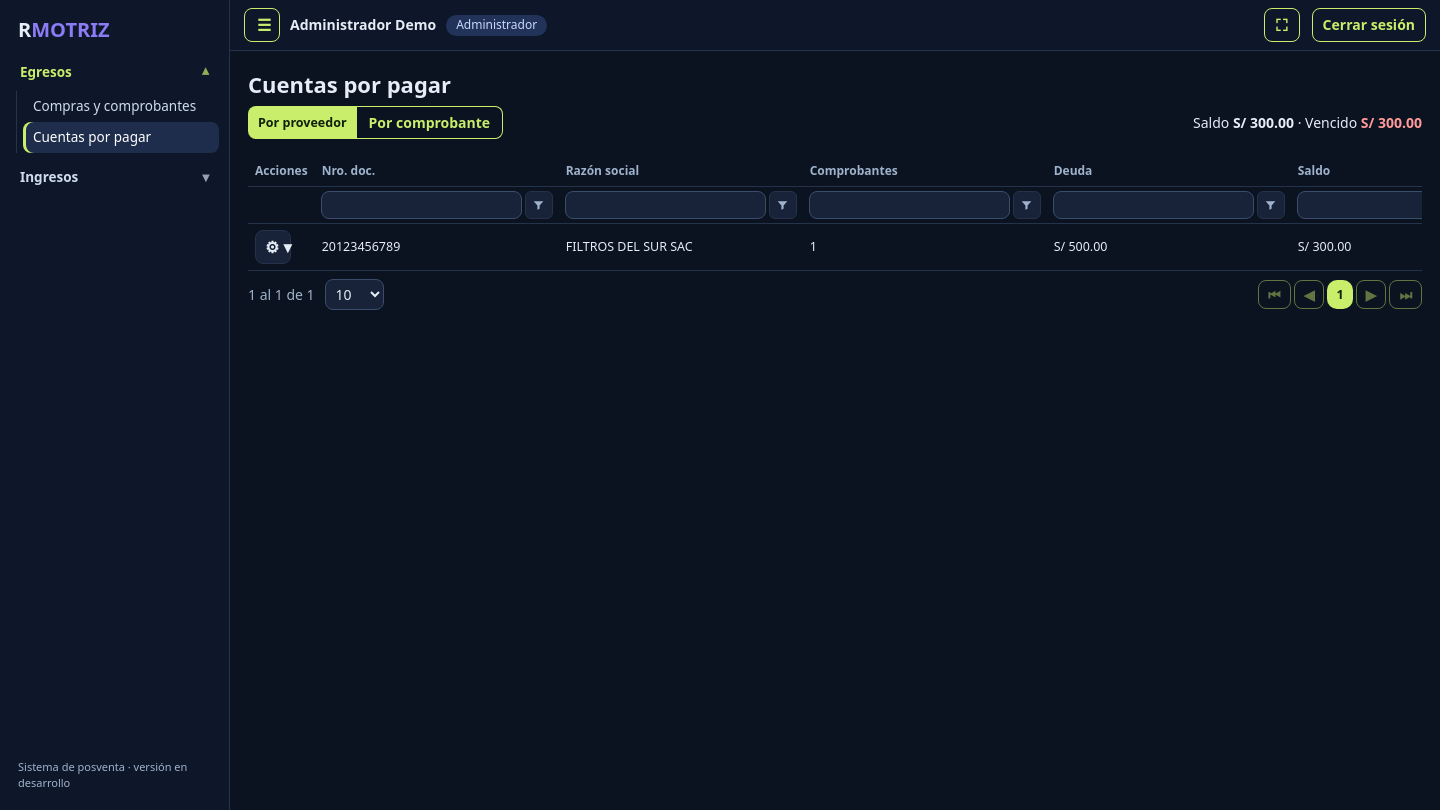
it: Cuentas por pagar: muestra la compra vencida y registra el pago al proveedor
The width and height of the screenshot is (1440, 810).
Click the button "Por comprobante".
click(430, 123)  # box [357, 106, 503, 139]
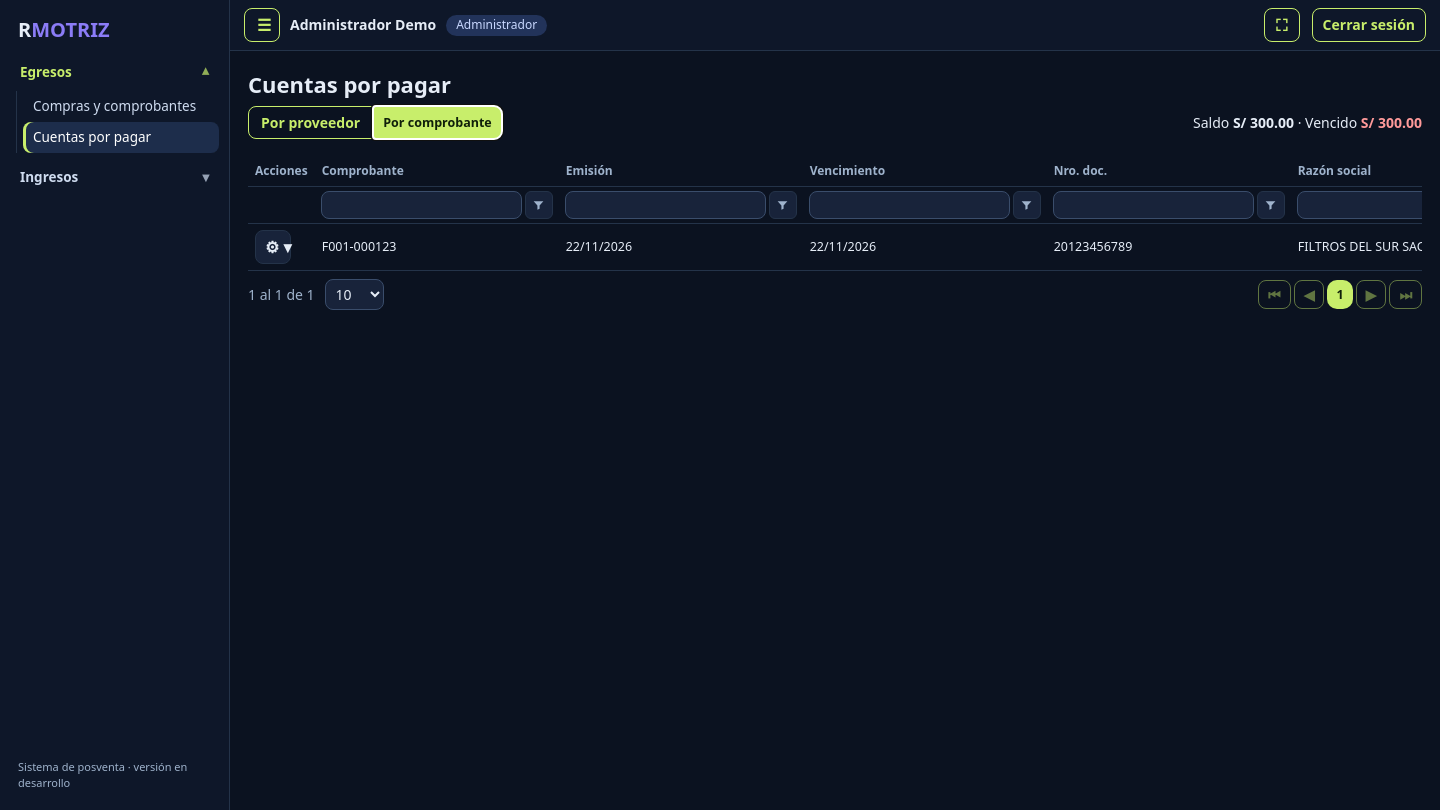
Click the button named "Acciones".
click(273, 247)  # box [255, 230, 291, 264]
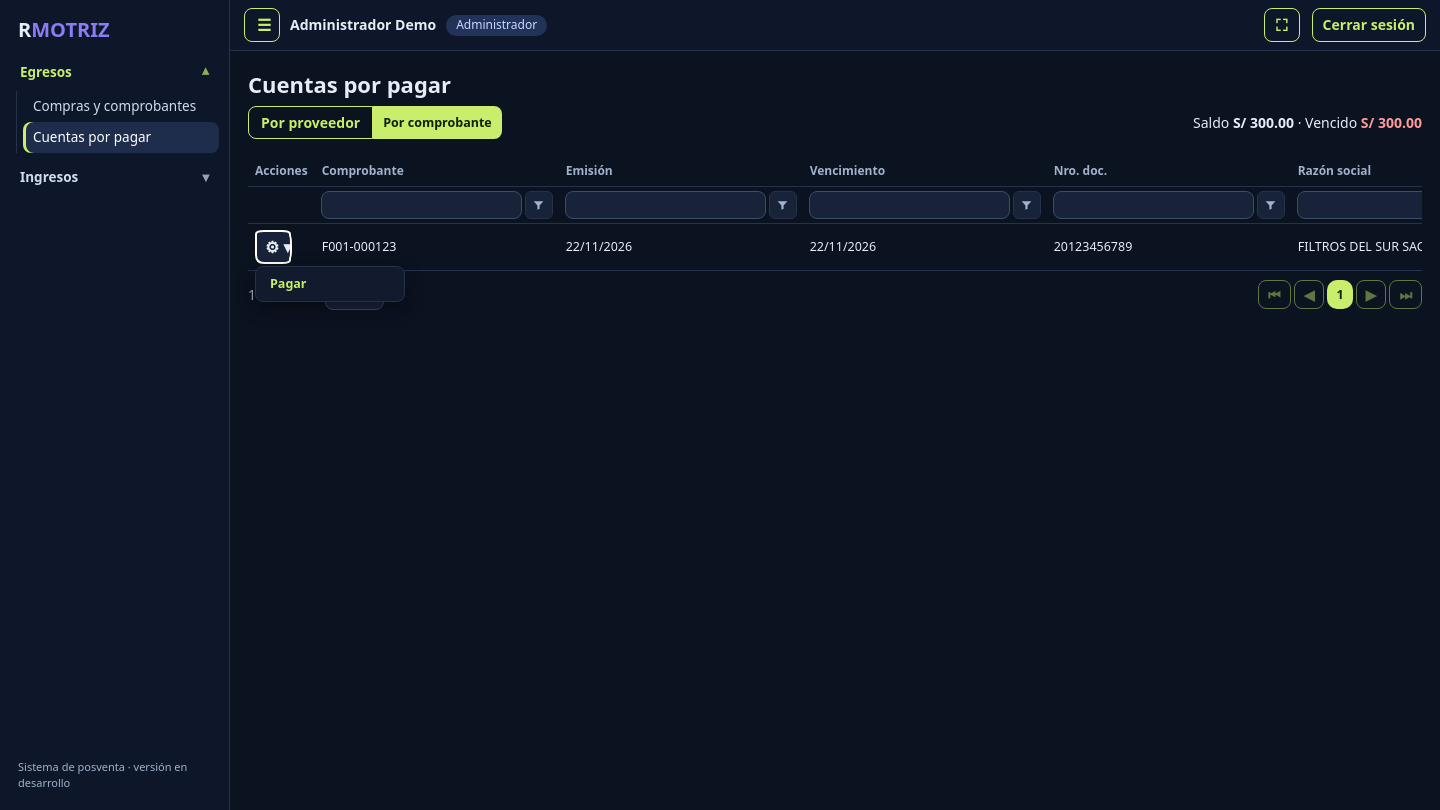
Click the button "Pagar".
click(328, 284)  # box [260, 271, 396, 297]
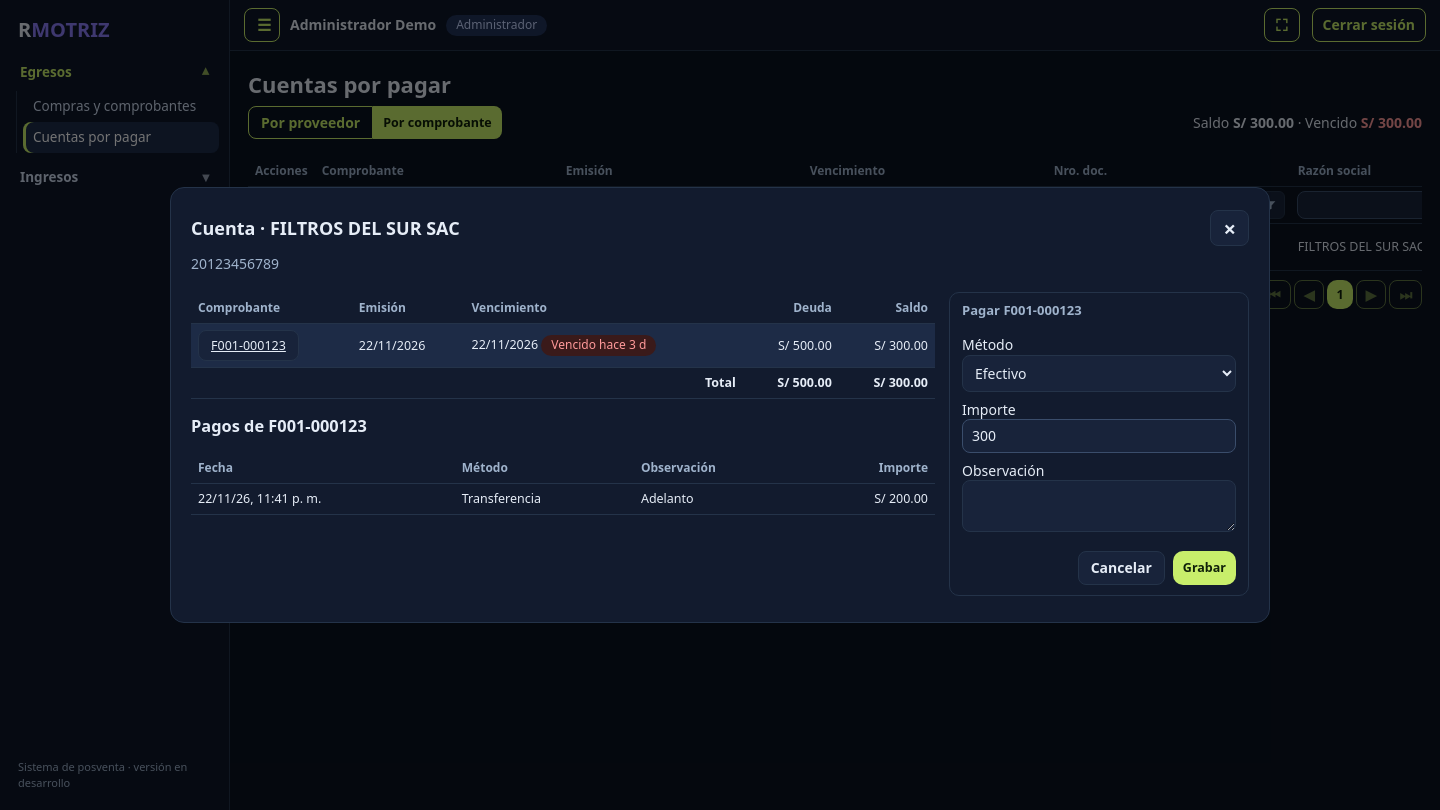
Click the button "Grabar".
click(1204, 568)  # box [1173, 551, 1236, 585]
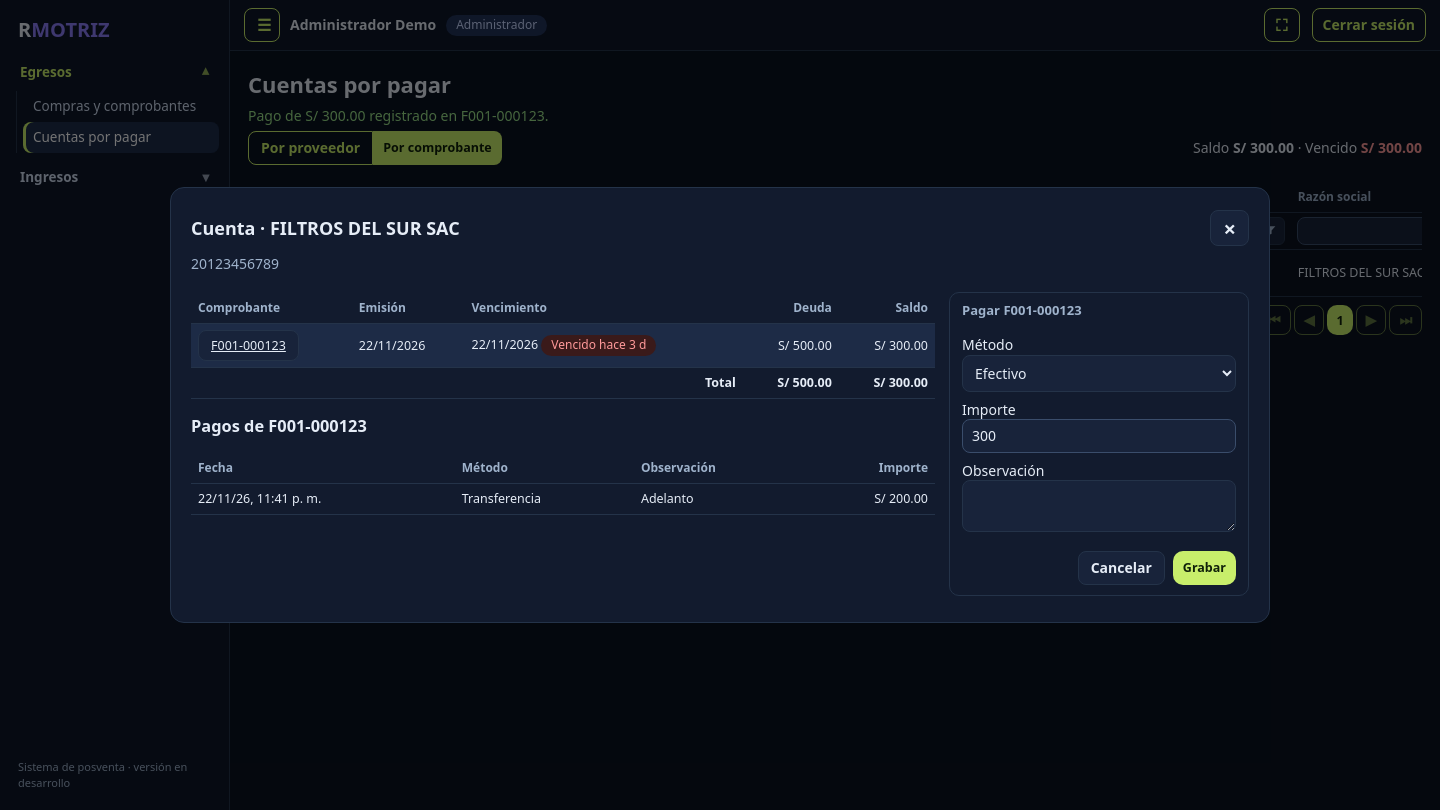
Expected: the text "Pago de S/ 300.00 registrado en F001-000123." is shown, [248, 106, 548, 125]
